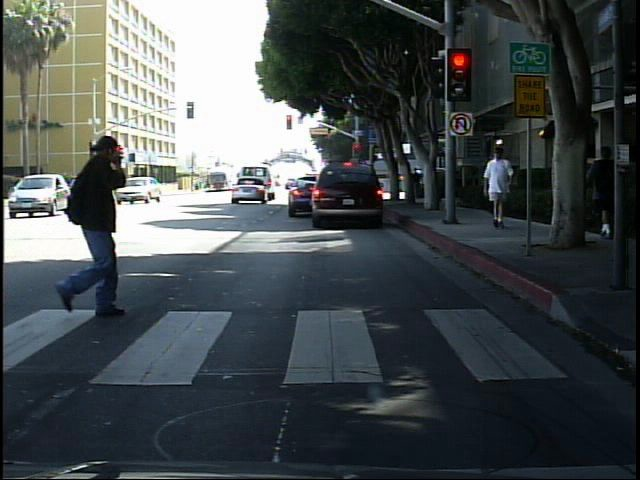person: (40, 126, 151, 340), (588, 137, 621, 246), (479, 145, 518, 234)
